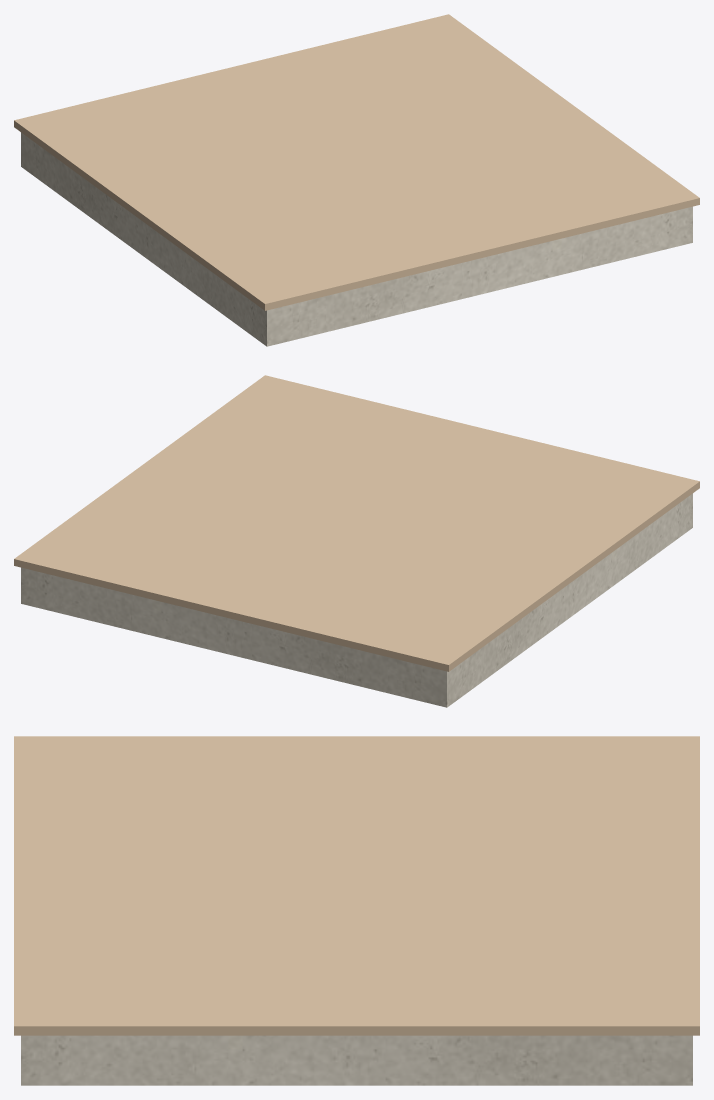
Rendered from floor_tile.glb.
3 views of the same model, one above another, from view 1: azimuth 30°, elevation 25°; view 2: azimuth 150°, elevation 25°; view 3: azimuth 270°, elevation 25° (orthographic). The views are drawn at different scales.
Parts seen in each view (by area): view 1: floor_tile_floor, floor_tile_plaster; view 2: floor_tile_floor, floor_tile_plaster; view 3: floor_tile_floor, floor_tile_plaster.
Boxes of the visible parts, x1,y1,x2,y2 form: floor_tile_floor: (14, 14, 699, 310); floor_tile_plaster: (21, 132, 692, 346); floor_tile_floor: (14, 375, 699, 671); floor_tile_plaster: (21, 493, 692, 707); floor_tile_floor: (14, 736, 699, 1035); floor_tile_plaster: (21, 1035, 692, 1085).
Size of the model in its own units: 2 by 0.2 by 2.
2 materials, 1 textured.
